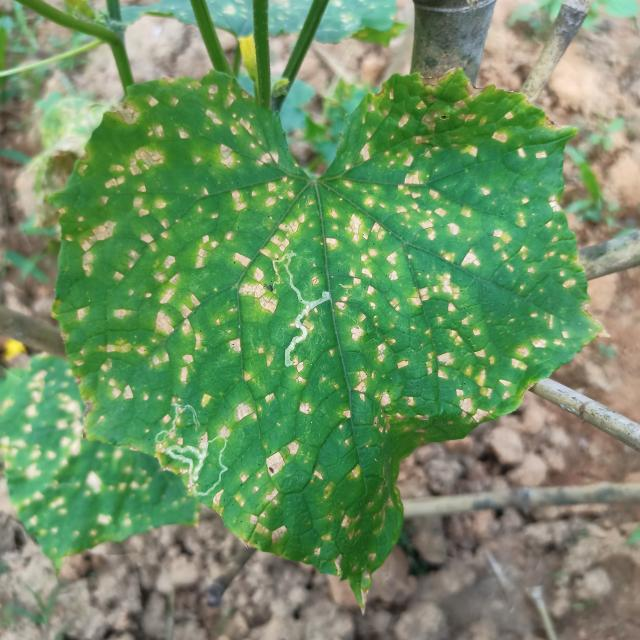disease_cucumber: (79, 89, 558, 548)
